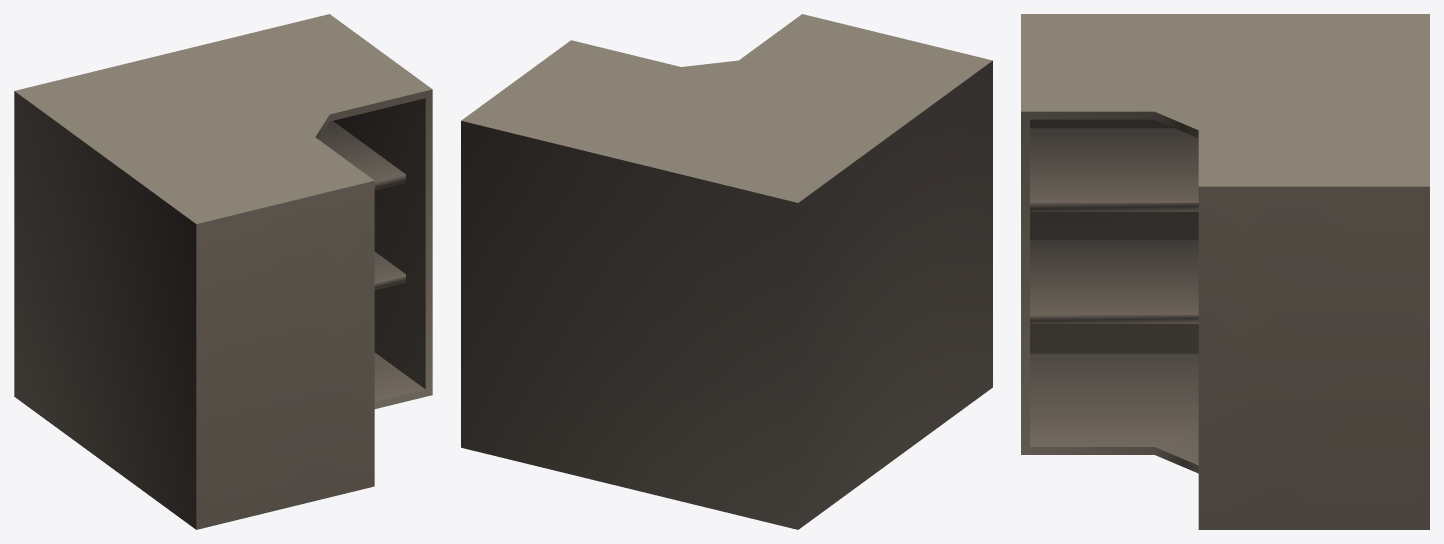
Rendered from TSP_Kitchen_Cabinet_Top_Corner_01A.fbx.
The picture shows the model from 3 angles, left to right: view 1: azimuth 30°, elevation 25°; view 2: azimuth 150°, elevation 25°; view 3: azimuth 270°, elevation 25°; orthographic projection. The views are drawn at different scales.
Visible parts, largest first — view 1: TSP_Kitchen_Cabinet_Top_Corner_01A; view 2: TSP_Kitchen_Cabinet_Top_Corner_01A; view 3: TSP_Kitchen_Cabinet_Top_Corner_01A.
Part boxes in pixels (bbox=[...]): TSP_Kitchen_Cabinet_Top_Corner_01A: bbox=[14, 14, 432, 529]; TSP_Kitchen_Cabinet_Top_Corner_01A: bbox=[461, 14, 992, 529]; TSP_Kitchen_Cabinet_Top_Corner_01A: bbox=[1021, 14, 1429, 529].
Size of the model in its own units: 0.925 by 0.8572 by 0.925.
